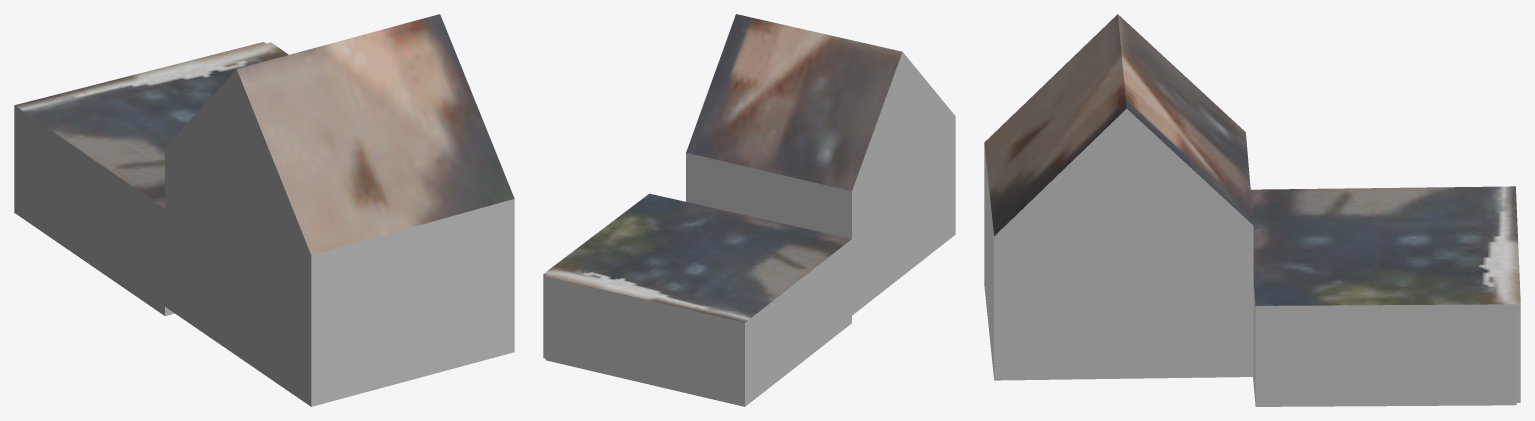
The model's file is DEBW_0010007Tx83.gltf.
The picture shows the model from 3 angles, left to right: view 1: azimuth 30°, elevation 25°; view 2: azimuth 150°, elevation 25°; view 3: azimuth 270°, elevation 25°; orthographic projection. The views are drawn at different scales.
Parts seen in each view (by area): view 1: Z_UP; view 2: Z_UP; view 3: Z_UP.
Part boxes in pixels (x1=…): Z_UP: x1=14, y1=14, x2=514, y2=406; Z_UP: x1=543, y1=14, x2=955, y2=406; Z_UP: x1=984, y1=14, x2=1520, y2=406.
Bounding box in the file's own units: 12.25 × 13.33 × 23.23.
2 materials, 1 textured.
